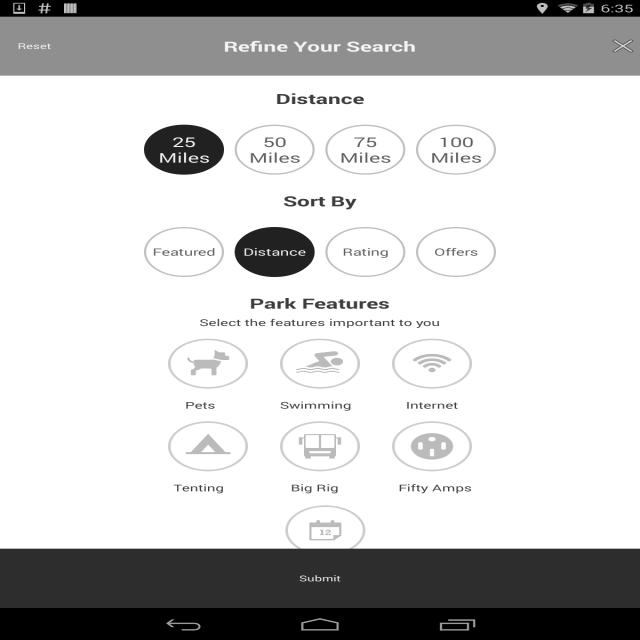Button: (0, 549, 640, 608), (0, 30, 68, 62)
ImageButton: (606, 35, 640, 57)
RadioButton: (144, 124, 224, 174), (234, 124, 314, 174), (326, 124, 406, 174), (416, 124, 496, 174), (144, 227, 224, 277), (234, 227, 314, 277), (326, 227, 406, 277), (416, 227, 496, 277)
TextView: (224, 36, 416, 56), (200, 316, 440, 329), (249, 294, 390, 312), (276, 89, 364, 108), (283, 192, 357, 210), (398, 481, 472, 494), (280, 399, 351, 411), (173, 481, 224, 494), (406, 399, 458, 411), (290, 481, 338, 494), (185, 399, 216, 411)
